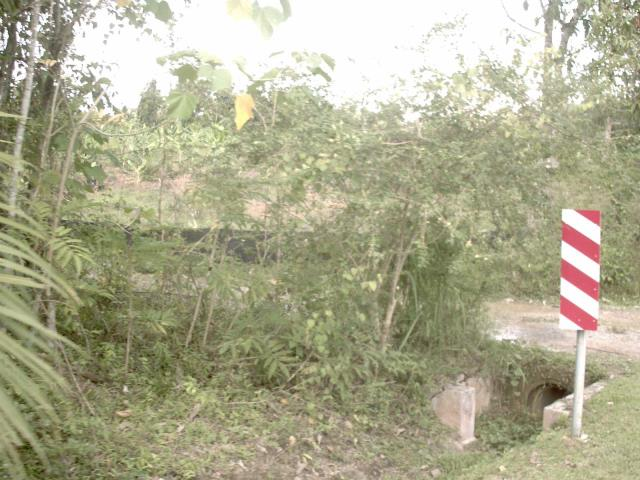traffic_sign: (548, 197, 612, 342)
